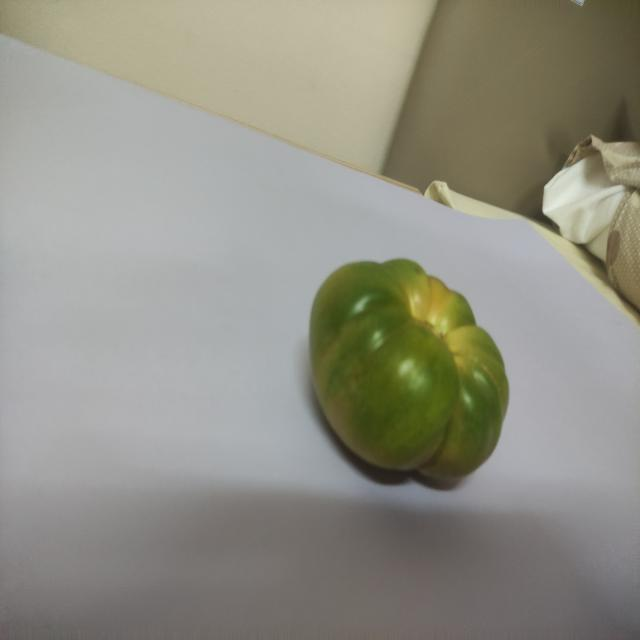yesil: (302, 236, 510, 494)
